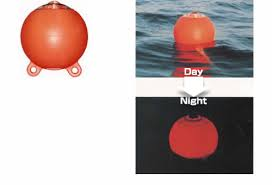buoy: (20, 1, 89, 69), (168, 115, 219, 160), (176, 12, 215, 48)
